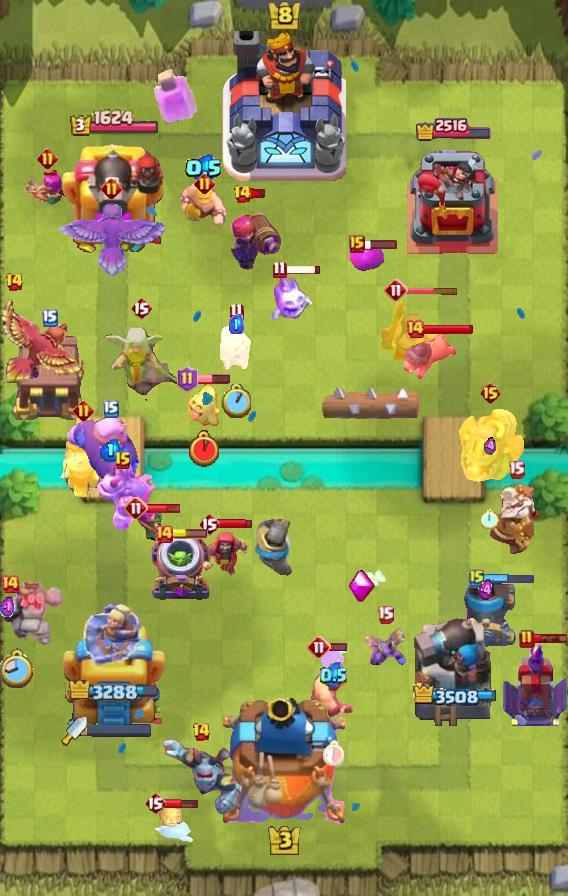archer: (23, 170, 71, 216), (130, 505, 168, 551)
bar: (483, 572, 535, 585), (422, 323, 474, 335), (405, 286, 459, 295), (217, 518, 253, 530), (195, 373, 231, 385), (362, 238, 398, 250), (285, 264, 322, 275), (163, 798, 199, 809), (533, 633, 568, 644), (146, 503, 181, 514), (172, 529, 208, 539), (329, 642, 348, 652), (250, 188, 267, 199)
bar-level: (307, 635, 331, 659), (124, 496, 148, 520), (384, 278, 408, 302), (479, 381, 502, 405), (177, 366, 198, 392), (144, 791, 166, 815), (198, 512, 220, 536), (130, 296, 152, 320), (73, 400, 94, 421), (101, 178, 122, 199), (194, 173, 215, 194), (37, 148, 58, 169), (0, 574, 20, 594), (154, 524, 174, 544), (405, 319, 425, 339), (192, 722, 211, 742), (5, 272, 24, 292), (233, 184, 252, 204), (114, 451, 132, 471), (377, 605, 394, 624), (508, 460, 525, 479), (519, 629, 535, 649), (469, 568, 485, 588), (103, 400, 119, 418), (42, 309, 58, 327), (349, 235, 365, 253), (229, 302, 244, 321), (272, 260, 287, 279)
barbarian: (179, 183, 229, 227)
cannoneer-tower: (60, 138, 168, 256), (410, 611, 496, 731)
clock: (0, 648, 35, 690), (189, 430, 219, 467), (221, 384, 251, 418), (322, 740, 344, 766), (481, 509, 499, 529)
dagger-duchess-tower: (59, 595, 169, 731)
dagger-duchess-tower-bar: (87, 724, 151, 737)
elixir: (185, 154, 223, 183), (320, 662, 347, 689), (100, 439, 122, 462), (478, 579, 494, 601), (0, 596, 15, 619), (229, 314, 244, 334), (484, 437, 496, 456)
elixir-golem-small: (349, 243, 385, 273)
evolution-symbol: (347, 570, 375, 604)
executioner: (379, 295, 447, 373)
firecracker-evolution: (227, 197, 283, 273)
golemite: (0, 582, 66, 648)
heal-spirit: (218, 324, 254, 374), (187, 383, 221, 427)
ice-spirit-evolution: (270, 273, 312, 323)
king-tower: (222, 31, 346, 181), (223, 698, 345, 826)
knight: (255, 519, 294, 577)
lava-pup: (159, 799, 185, 827)
lumberjack: (305, 650, 361, 726)
mega-minion: (159, 736, 243, 814), (96, 460, 150, 532)
minion: (363, 627, 407, 673)
mortar: (456, 583, 516, 647)
mortar-evolution: (148, 533, 212, 603)
queen-tower: (403, 146, 503, 256)
ram-rider: (60, 414, 106, 498)
royal-hog: (404, 332, 456, 382)
the-log: (321, 383, 421, 425)
tower-bar: (69, 109, 160, 138), (69, 680, 159, 704), (411, 683, 496, 707), (414, 116, 492, 142)
wizard: (200, 528, 250, 584)
